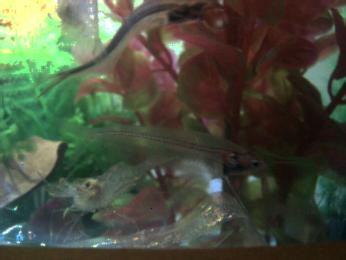glassfish: (32, 1, 206, 97), (57, 116, 266, 174)
siberian prawn: (53, 151, 184, 216), (47, 1, 108, 53)
